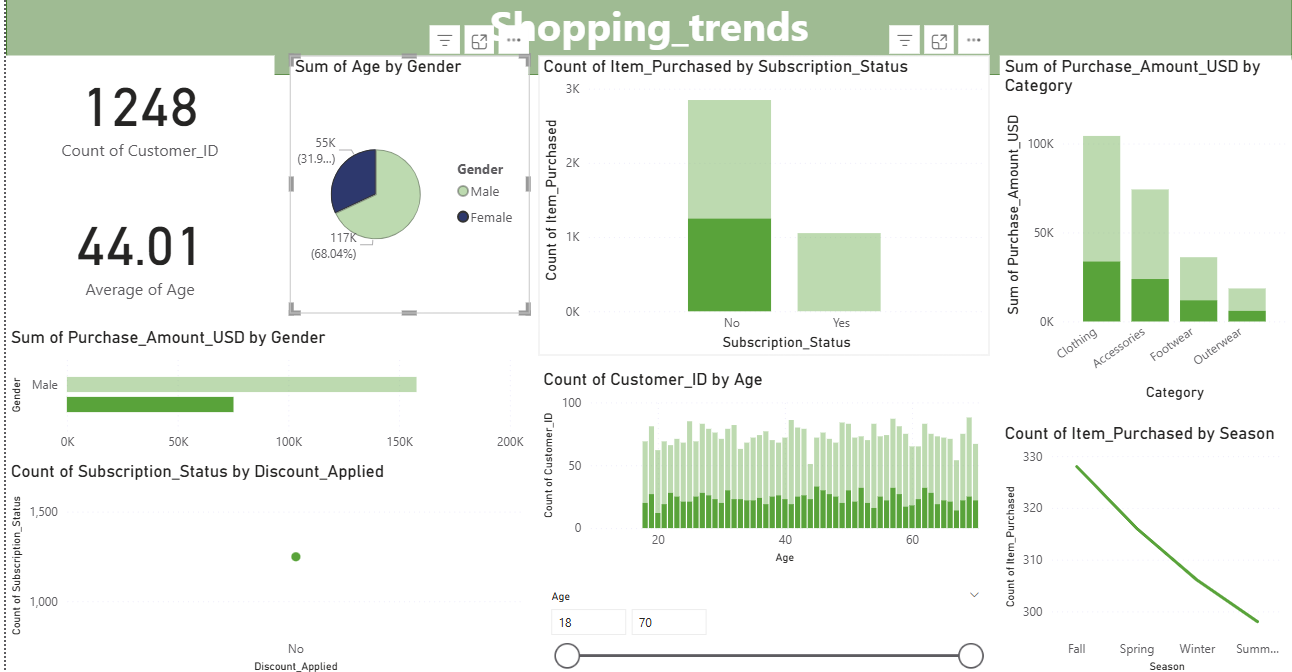

Layout of this report page (visuals, bound fields, positions):
{"tool":"powerbi","page":{"name":"Page 1","canvas":[1280,720],"ordinal":0},"visuals":[{"type":"shape","box":[0,20.6,1280.3,100.2],"z":0},{"type":"pieChart","fields":{"Category":["shopping_trends.Gender"],"Y":["Sum(shopping_trends.Age)"]},"box":[282.9,101.9,237.7,257.5],"z":1000},{"type":"clusteredColumnChart","fields":{"Y":["Sum(shopping_trends.Purchase_Amount_USD)"],"Category":["shopping_trends.Category"]},"box":[989.5,101.6,290.8,348.6],"z":2000},{"type":"columnChart","fields":{"Category":["shopping_trends.Subscription_Status"],"Y":["CountNonNull(shopping_trends.Item_Purchased)"]},"box":[530.5,101.9,448.5,298.5],"z":3000},{"type":"card","fields":{"Values":["CountNonNull(shopping_trends.Customer_ID)"]},"box":[0,101.6,267.3,111],"z":4000},{"type":"card","fields":{"Values":["Avg(shopping_trends.Age)"]},"box":[0,231.4,267.3,128.2],"z":5000},{"type":"barChart","fields":{"Category":["shopping_trends.Gender"],"Y":["Sum(shopping_trends.Purchase_Amount_USD)"]},"box":[0,372.1,520.6,132.9],"z":6000},{"type":"areaChart","fields":{"Category":["shopping_trends.Discount_Applied"],"Y":["CountNonNull(shopping_trends.Subscription_Status)"]},"box":[0,504.9,520.6,215.7],"z":7000},{"type":"lineChart","fields":{"Category":["shopping_trends.Season"],"Y":["CountNonNull(shopping_trends.Item_Purchased)"]},"box":[989.5,467.4,290.8,253.2],"z":8000},{"type":"lineClusteredColumnComboChart","fields":{"Y":["CountNonNull(shopping_trends.Customer_ID)"],"Category":["shopping_trends.Age"]},"box":[530.5,414.5,447,198.1],"z":8001},{"type":"slicer","fields":{"Values":["shopping_trends.Age"]},"box":[530.5,628.1,451.3,92],"z":8002}]}

Visuals, with their boxes on the page's 1280x720 design canvas (x1, y1, x2, y2). These are canvas units, not pixel positions in the 1292x672 screenshot, which may show the page scaled, cropped or inside an application window:
shape: l=0, t=21, r=1280, b=121
pieChart - shopping_trends.Gender x Sum(shopping_trends.Age): l=283, t=102, r=521, b=359
clusteredColumnChart - Sum(shopping_trends.Purchase_Amount_USD) x shopping_trends.Category: l=990, t=102, r=1280, b=450
columnChart - shopping_trends.Subscription_Status x CountNonNull(shopping_trends.Item_Purchased): l=530, t=102, r=979, b=400
card - CountNonNull(shopping_trends.Customer_ID): l=0, t=102, r=267, b=213
card - Avg(shopping_trends.Age): l=0, t=231, r=267, b=360
barChart - shopping_trends.Gender x Sum(shopping_trends.Purchase_Amount_USD): l=0, t=372, r=521, b=505
areaChart - shopping_trends.Discount_Applied x CountNonNull(shopping_trends.Subscription_Status): l=0, t=505, r=521, b=721
lineChart - shopping_trends.Season x CountNonNull(shopping_trends.Item_Purchased): l=990, t=467, r=1280, b=721
lineClusteredColumnComboChart - CountNonNull(shopping_trends.Customer_ID) x shopping_trends.Age: l=530, t=414, r=978, b=613
slicer - shopping_trends.Age: l=530, t=628, r=982, b=720
